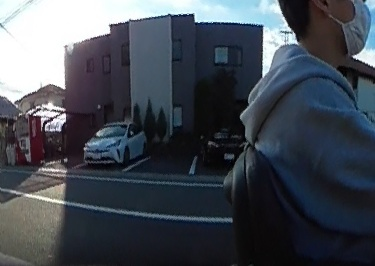person: (250, 0, 375, 261)
